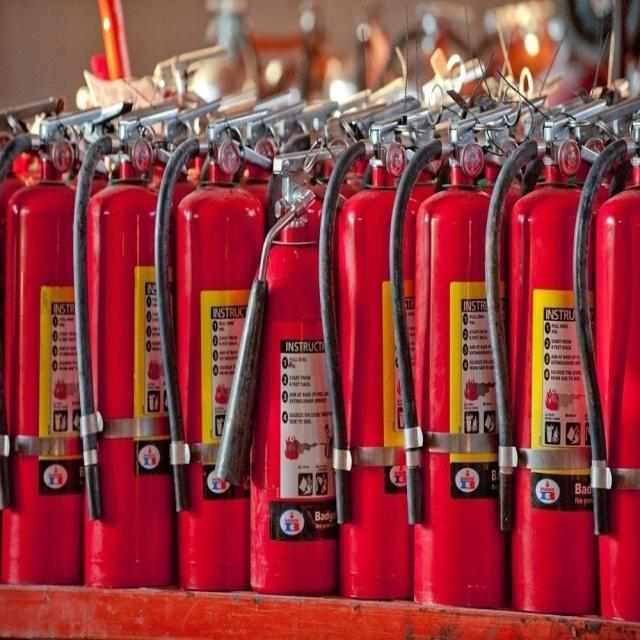fire_extinguisher: (383, 98, 522, 619), (481, 89, 612, 622), (213, 139, 354, 599), (149, 104, 277, 598), (68, 98, 189, 594), (314, 102, 432, 607), (0, 103, 113, 593), (566, 113, 640, 628)
